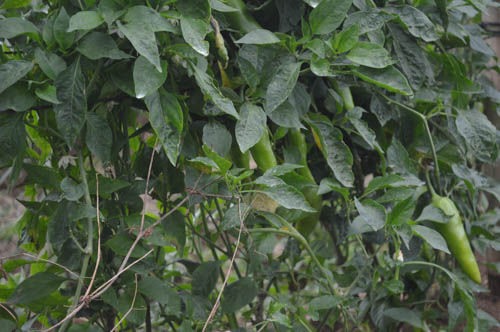ChiliPepper: (432, 201, 482, 283), (252, 132, 273, 169)
